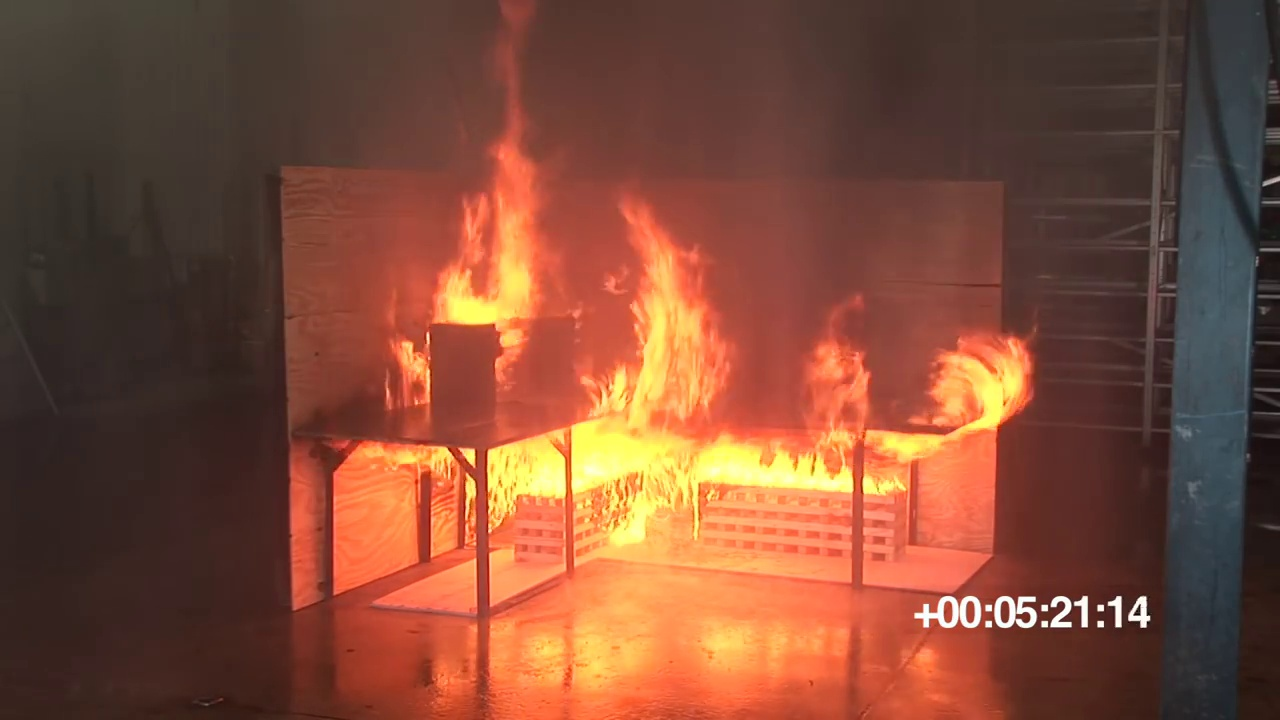fire: (585, 208, 726, 429), (482, 441, 901, 495), (436, 151, 549, 321), (919, 336, 1039, 429), (797, 337, 872, 425), (396, 342, 432, 406)
